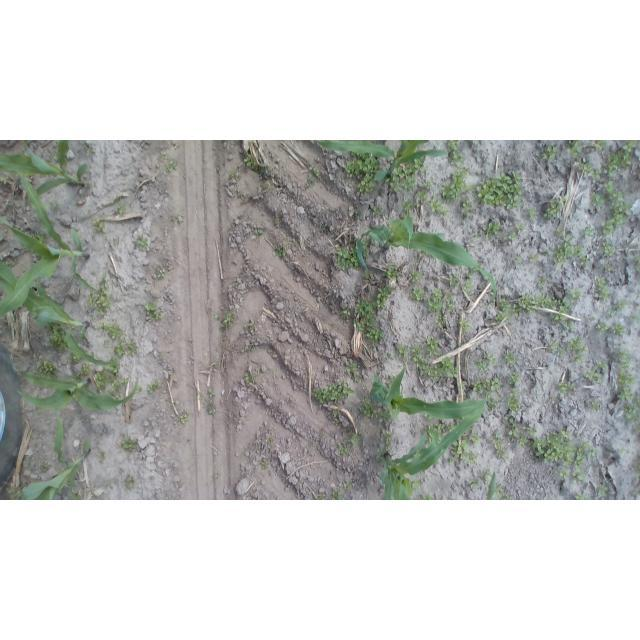Maize: (354, 215, 497, 305), (2, 172, 90, 318), (0, 263, 114, 366), (383, 397, 483, 500), (20, 413, 91, 500), (13, 360, 140, 407), (371, 364, 489, 412), (1, 140, 88, 205), (317, 140, 449, 180), (485, 473, 495, 500)
Weeds: (474, 170, 522, 210), (534, 432, 576, 464), (605, 181, 632, 225), (607, 141, 638, 176), (569, 142, 599, 178), (440, 169, 466, 203), (314, 381, 354, 403), (355, 299, 386, 325), (519, 294, 558, 311), (553, 243, 580, 263), (618, 371, 635, 402), (414, 346, 432, 375), (567, 336, 587, 362), (334, 247, 356, 269), (578, 442, 598, 466), (585, 362, 607, 383), (493, 431, 508, 457), (425, 335, 441, 356), (447, 140, 461, 164), (428, 290, 444, 311), (103, 322, 123, 338), (597, 277, 611, 299), (346, 159, 362, 177), (622, 402, 639, 418), (363, 157, 378, 175), (619, 348, 631, 370), (448, 272, 460, 293), (360, 398, 372, 418), (509, 388, 519, 412), (411, 285, 426, 301), (445, 293, 455, 316), (485, 378, 502, 391), (382, 432, 393, 452), (579, 246, 589, 268), (395, 345, 409, 360), (543, 145, 558, 159), (602, 218, 615, 234), (499, 300, 508, 321), (483, 352, 497, 365), (373, 410, 388, 422), (559, 298, 571, 313), (611, 323, 626, 335), (382, 267, 398, 278), (483, 223, 493, 240), (363, 174, 373, 191), (544, 205, 557, 218), (338, 441, 350, 455), (367, 329, 382, 340), (475, 358, 487, 371), (507, 373, 519, 386), (123, 437, 134, 451), (509, 423, 520, 437), (422, 181, 430, 200), (455, 442, 466, 455), (572, 469, 585, 480), (96, 297, 109, 308), (391, 178, 401, 192), (349, 431, 359, 445), (403, 179, 414, 191), (550, 340, 561, 352), (592, 196, 604, 207), (345, 361, 357, 372), (115, 344, 126, 356), (245, 156, 256, 168), (51, 331, 62, 343), (164, 161, 176, 172), (429, 198, 440, 210), (513, 305, 523, 318), (595, 322, 608, 332), (492, 221, 501, 235), (463, 201, 472, 215), (603, 246, 614, 257), (448, 367, 459, 378), (357, 181, 369, 191), (505, 353, 515, 365), (469, 430, 479, 442), (331, 488, 341, 500), (376, 286, 386, 298), (145, 303, 155, 315), (598, 484, 608, 496), (498, 489, 510, 499), (459, 320, 470, 330), (435, 315, 445, 326), (179, 413, 189, 424), (560, 469, 570, 480), (94, 221, 104, 232), (137, 238, 147, 249), (43, 362, 54, 372), (466, 452, 476, 463), (276, 244, 285, 256), (408, 273, 420, 282), (489, 398, 497, 411), (413, 160, 423, 170), (223, 315, 233, 325), (558, 382, 568, 392), (527, 207, 537, 217), (403, 202, 414, 211), (439, 209, 448, 220), (124, 476, 133, 487), (474, 381, 483, 392), (128, 341, 137, 352), (592, 400, 603, 409), (568, 379, 577, 390), (516, 224, 526, 233), (394, 169, 403, 179), (373, 206, 383, 215), (208, 405, 217, 415), (442, 357, 451, 367), (572, 288, 581, 298), (111, 380, 119, 391), (36, 361, 44, 372), (464, 278, 471, 290), (483, 468, 490, 480), (508, 232, 516, 242), (157, 267, 165, 277), (633, 253, 640, 264), (539, 277, 546, 288), (428, 370, 439, 377), (555, 314, 566, 321), (82, 365, 90, 374), (245, 372, 253, 381), (333, 410, 342, 418), (101, 286, 109, 295), (418, 495, 432, 500), (588, 227, 595, 237), (596, 141, 606, 148), (309, 176, 316, 186), (575, 493, 585, 500), (87, 295, 93, 306), (344, 480, 352, 488), (472, 231, 481, 238), (153, 380, 160, 389), (119, 204, 126, 213), (353, 210, 361, 217), (556, 230, 563, 238), (515, 257, 522, 265), (505, 414, 512, 422), (122, 378, 129, 386), (530, 255, 537, 262), (267, 437, 274, 444), (342, 310, 350, 316), (59, 343, 65, 351), (208, 389, 214, 397), (147, 385, 153, 393), (255, 228, 263, 234), (448, 457, 456, 463), (462, 379, 467, 388), (248, 344, 253, 353), (154, 313, 160, 320), (472, 481, 478, 488), (315, 494, 323, 499), (262, 460, 267, 468), (604, 265, 610, 271), (364, 271, 369, 278), (100, 453, 105, 460), (447, 423, 454, 428), (553, 398, 558, 405), (264, 183, 269, 190), (104, 340, 109, 347), (353, 319, 359, 324), (438, 425, 444, 430), (460, 453, 465, 459), (37, 235, 44, 239), (230, 173, 235, 178), (619, 302, 624, 307), (247, 324, 251, 328), (216, 316, 219, 321)
